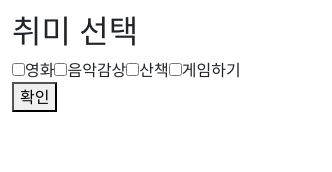
Test case: HobbiesExam › 5. 여러 개 선택 시 쉼표로 구분된 결과가 표시된다
Click the checkbox showing "게임하기" at (175, 70), box [169,63,182,76]
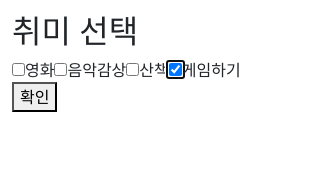
Click the checkbox showing "영화" at (18, 70), box [12,63,25,76]
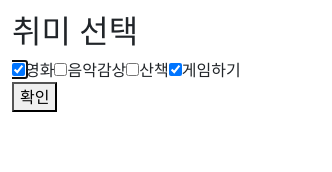
Click the button "확인" at (35, 97), box [12,82,58,112]
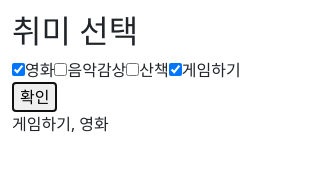
Now the text with test id "result" reads "게임하기, 영화", box [12,113,109,135]
